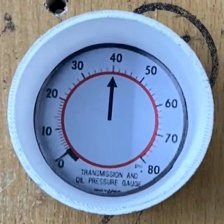gauge: (33, 45, 188, 198)
